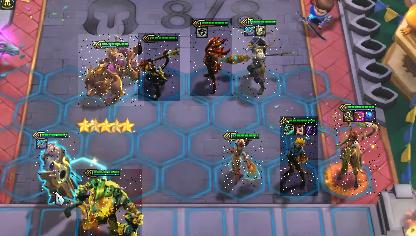3_ezreal: (280, 116, 318, 196)
3_karma: (334, 104, 380, 196)
3_leona: (31, 130, 79, 206)
3_malphite: (76, 169, 142, 236)
3_nasus: (230, 18, 282, 98)
3_sejuani: (78, 34, 144, 106)
3_sett: (190, 18, 232, 96)
3_taliyah: (221, 130, 263, 190)
3_wukong: (138, 33, 180, 101)
